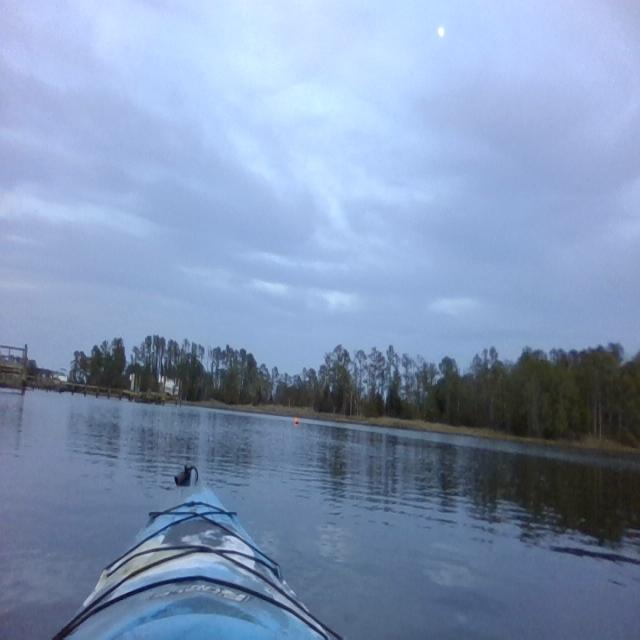Buoy: (292, 414, 300, 427)
